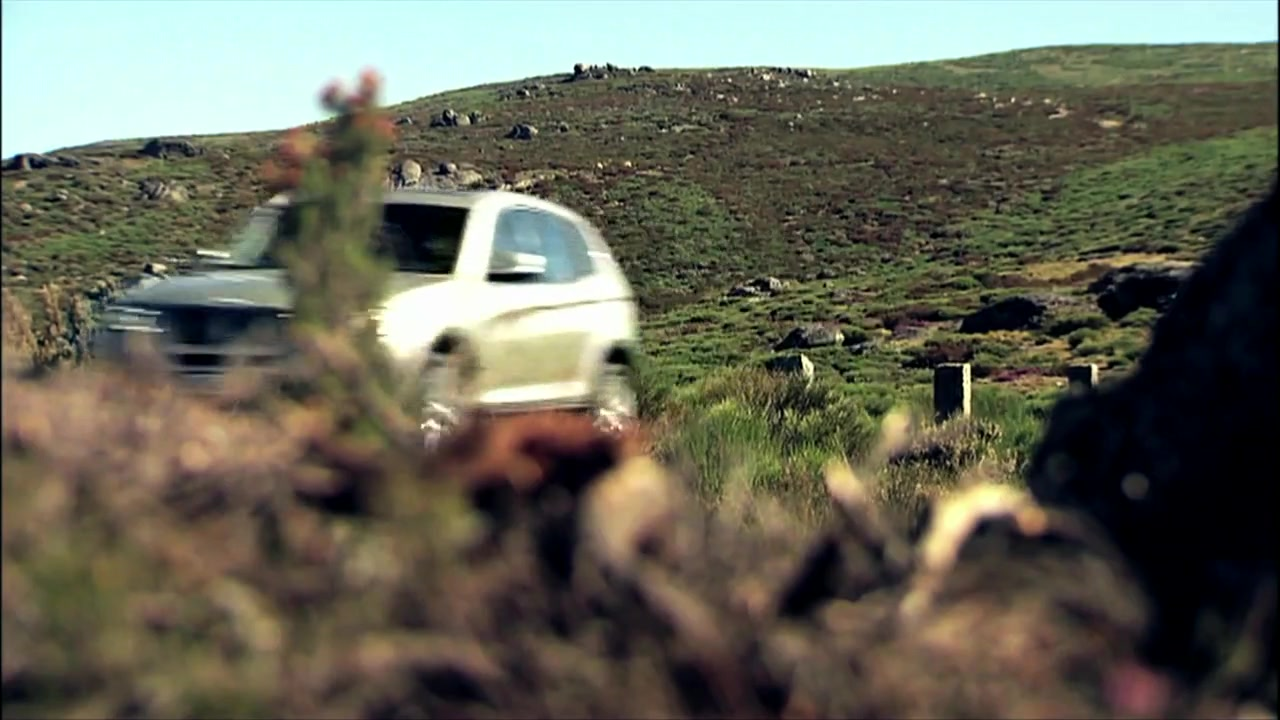car: (84, 187, 656, 473)
